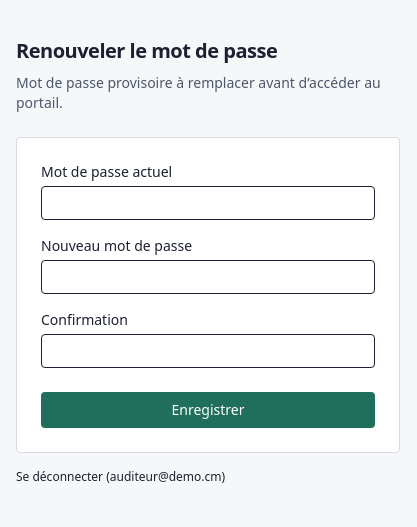
Test case: renouvellement du mot de passe › refuse deux saisies différentes sans appeler l’api
In the password field labelled "Mot de passe actuel": (208, 203) [41,186,375,220], type "PROV-ISOI-RE00-1234"
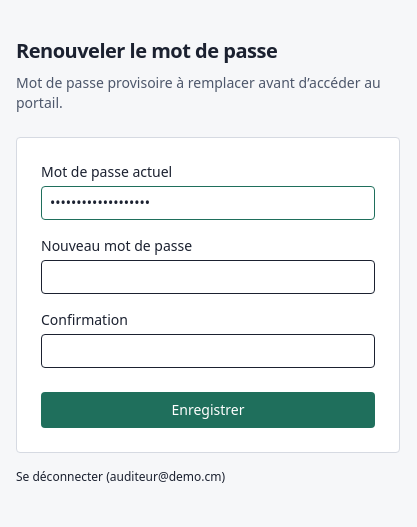
In the password field labelled "Nouveau mot de passe": (208, 277) [41,260,375,294], type "Ngoma!Kwessi-2026"
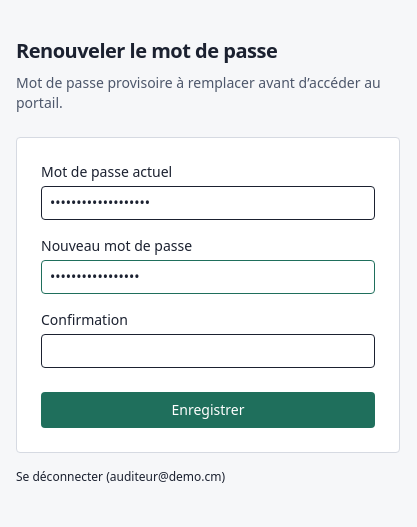
In the password field labelled "Confirmation": (208, 351) [41,334,375,368], type "Ngoma!Kwessi-2027"
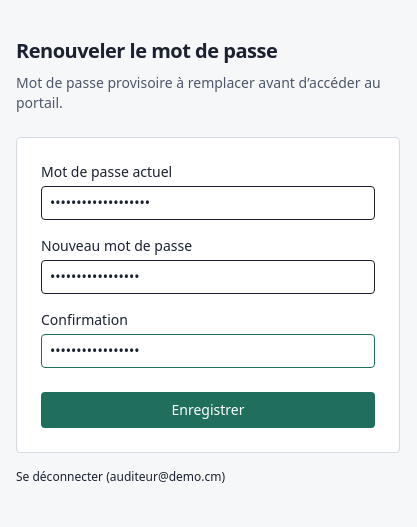
Click the button "Enregistrer": (208, 410) [41,392,375,428]
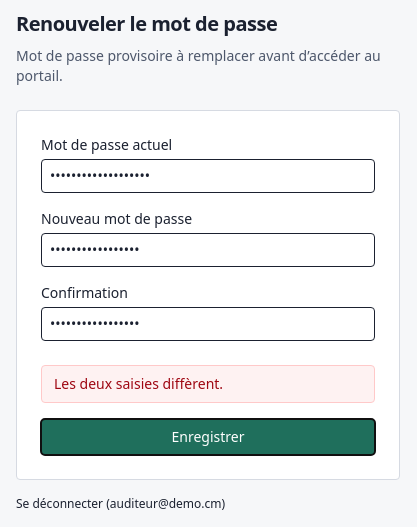
Result: the message shows "diffèrent" at [54,374,223,393]
